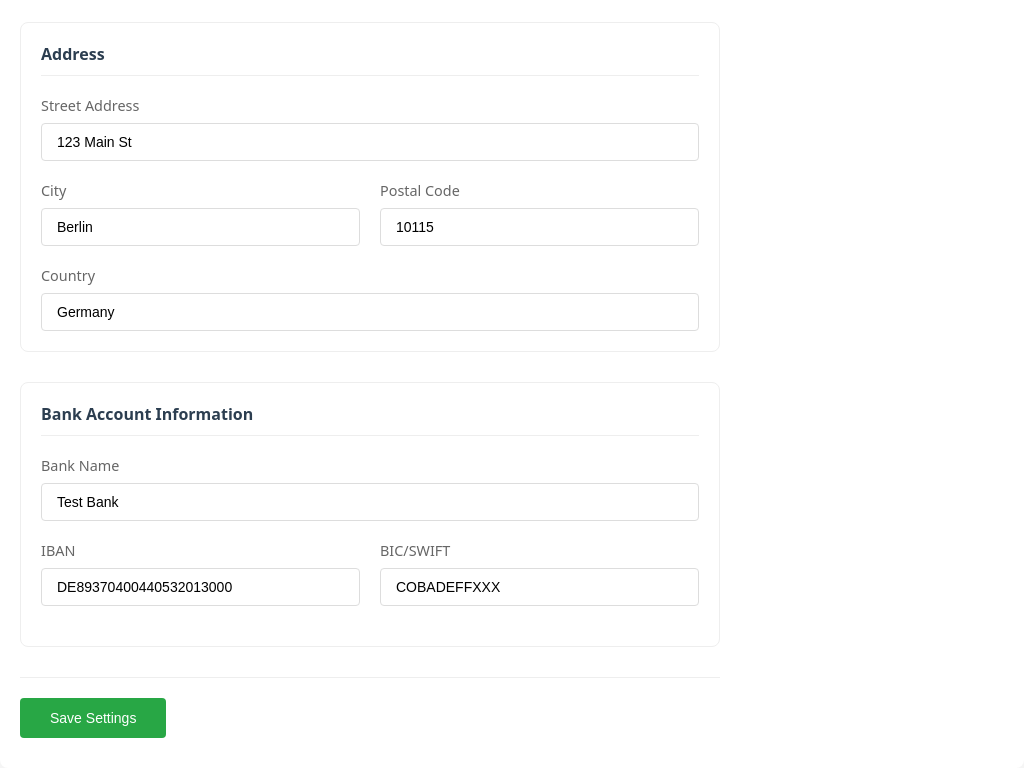
Settings.vue › displays success message after save
(page scrolled)
Click the button with test id "save-core-settings-button": (93, 718) x1=20 y1=698 x2=166 y2=738
(page scrolled)
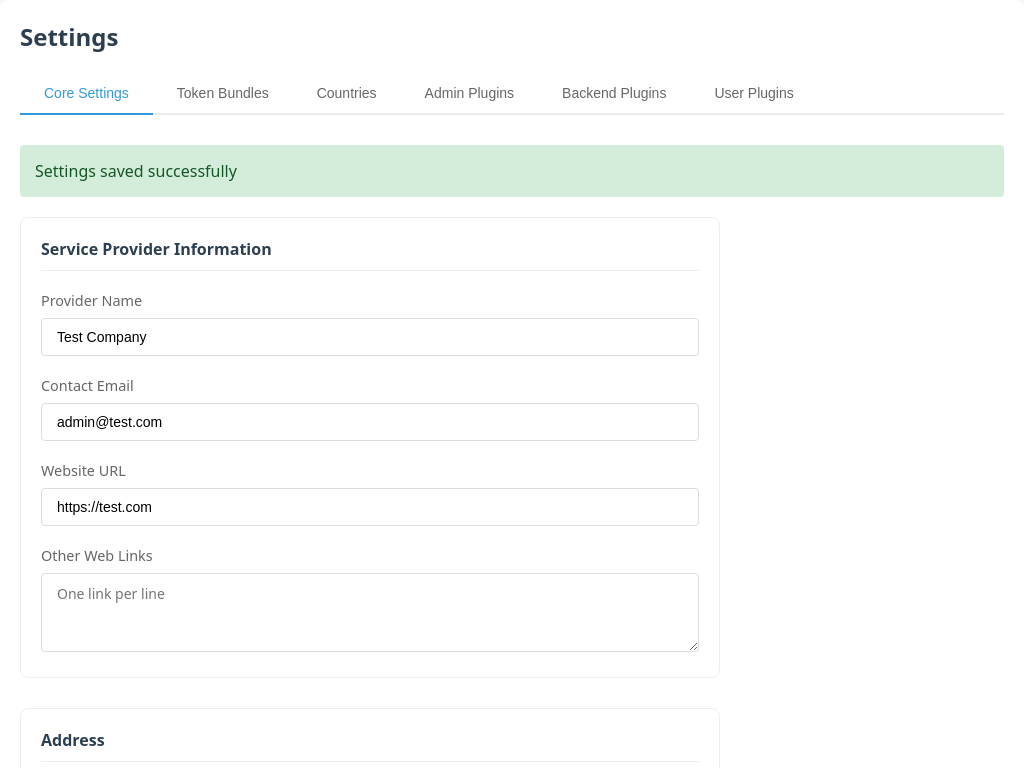
Check: the text "Settings saved successfully" is shown, box x1=20 y1=145 x2=1004 y2=197
